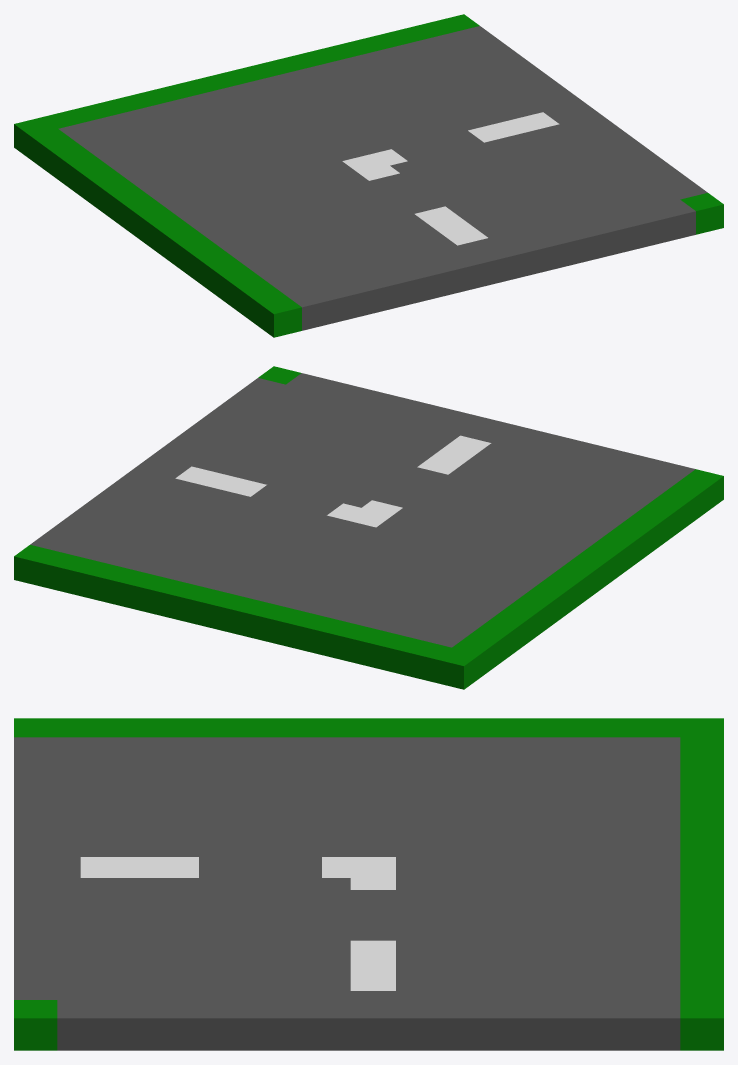
Rendered from RoadPrefabCorner.fbx.
The picture shows the model from 3 angles, top to bottom: view 1: azimuth 30°, elevation 25°; view 2: azimuth 150°, elevation 25°; view 3: azimuth 270°, elevation 25°; orthographic projection. The views are drawn at different scales.
Visible parts, largest first — view 1: pCube2; view 2: pCube2; view 3: pCube2.
Boxes of the visible parts, x1,y1,x2,y2 form: pCube2: [14, 14, 723, 337]; pCube2: [14, 366, 723, 689]; pCube2: [14, 718, 723, 1050].
Size of the model in its own units: 20 by 1 by 20.
